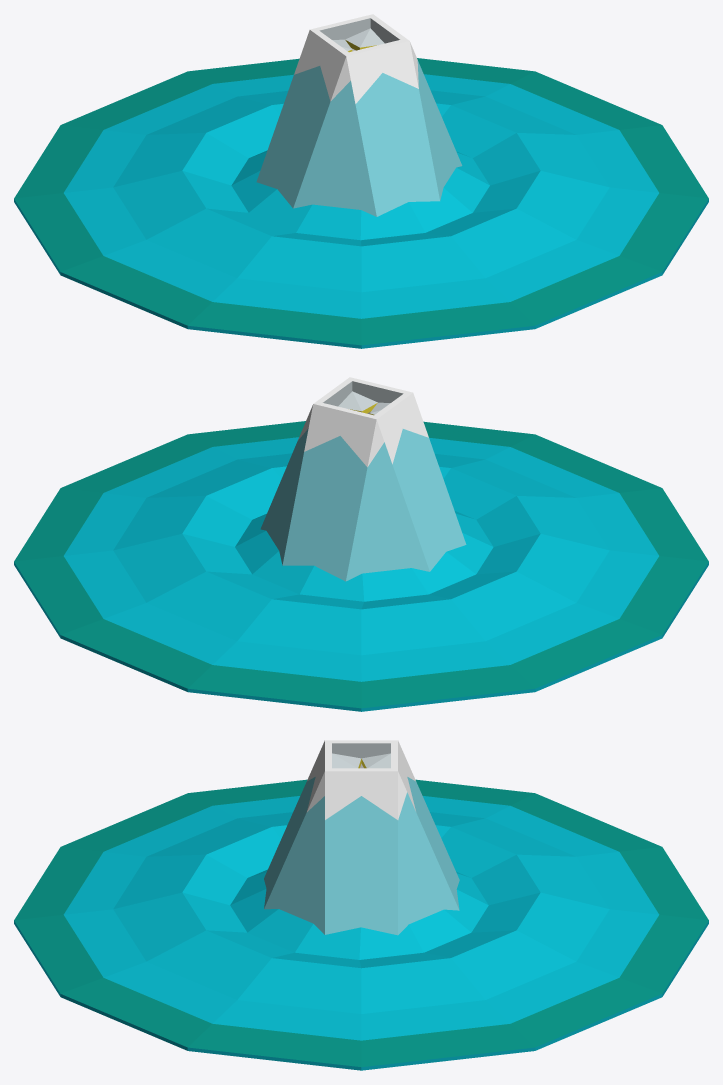
The model's file is Mount Fuji.glb.
The picture shows the model from 3 angles, top to bottom: view 1: azimuth 30°, elevation 25°; view 2: azimuth 150°, elevation 25°; view 3: azimuth 270°, elevation 25°; orthographic projection.
Parts seen in each view (by area): view 1: group66761854, group1087224881; view 2: group66761854, group1087224881; view 3: group66761854, group1087224881.
Part boxes in pixels (x1,y1,x2,y2): group66761854: [14, 58, 708, 348]; group1087224881: [256, 14, 462, 216]; group66761854: [14, 421, 708, 711]; group1087224881: [260, 377, 466, 581]; group66761854: [14, 779, 708, 1070]; group1087224881: [264, 740, 459, 935].
Bounding box in the file's own units: 3.45 × 0.9157 × 3.45.
